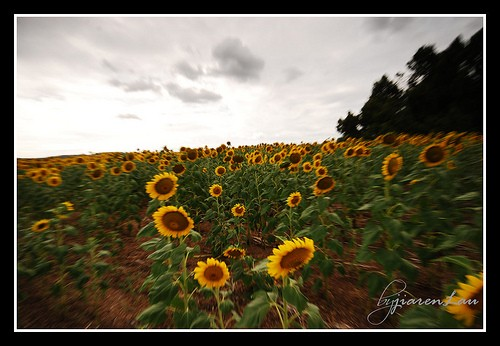flower: (265, 234, 318, 279), (150, 203, 195, 238), (192, 256, 231, 289), (144, 170, 180, 202), (287, 191, 303, 208), (232, 203, 247, 219), (207, 184, 223, 198)
